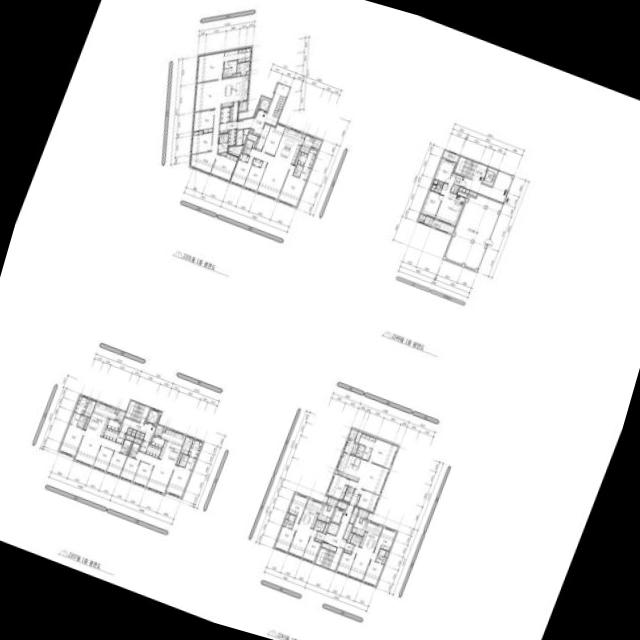background: (0, 0, 640, 640)
space_balconi: (423, 216, 454, 233), (442, 150, 459, 162), (311, 137, 321, 149), (238, 100, 247, 111)
space_bedroom: (277, 164, 306, 206), (367, 438, 397, 468), (165, 464, 191, 497), (58, 423, 84, 456), (209, 152, 238, 181), (196, 51, 223, 82), (261, 123, 284, 154), (243, 161, 266, 191), (230, 156, 253, 186), (326, 473, 349, 499), (287, 493, 307, 522), (373, 527, 395, 553), (421, 190, 442, 217), (92, 445, 113, 471), (105, 450, 126, 476), (274, 525, 295, 551), (362, 559, 383, 585), (132, 460, 153, 486), (190, 129, 212, 153), (434, 158, 455, 183), (119, 455, 139, 481), (356, 488, 378, 511), (192, 109, 213, 132), (302, 536, 320, 561), (336, 551, 355, 574), (238, 152, 249, 161), (252, 157, 262, 166)
space_dressroom: (73, 394, 88, 414), (187, 438, 202, 457), (358, 432, 375, 448), (303, 148, 316, 167), (237, 46, 251, 62), (297, 152, 307, 164)
space_elevator: (481, 166, 497, 185), (145, 408, 160, 425), (330, 507, 344, 523), (256, 96, 270, 111)
space_elevator_hall: (237, 82, 289, 135), (460, 162, 511, 201), (322, 504, 353, 554), (119, 417, 155, 441)
space_front: (254, 123, 270, 150), (145, 443, 161, 457), (102, 427, 118, 441), (219, 120, 236, 132), (227, 128, 236, 146), (220, 106, 229, 122), (451, 172, 462, 185), (349, 493, 359, 505), (314, 530, 324, 542), (115, 431, 125, 443), (138, 440, 148, 452), (343, 542, 353, 553)
space_kitchen: (350, 516, 382, 552), (273, 126, 303, 163), (85, 401, 116, 436), (298, 498, 334, 528), (158, 427, 185, 464), (220, 74, 249, 107), (336, 452, 365, 481), (447, 192, 464, 212), (106, 418, 120, 430), (150, 435, 164, 447)
space_living_room: (189, 79, 222, 173), (248, 147, 290, 199), (73, 430, 121, 466), (135, 450, 174, 493), (348, 460, 388, 495), (434, 175, 459, 225), (287, 522, 316, 556), (348, 545, 377, 579)
space_other: (444, 193, 502, 269), (300, 134, 314, 153), (83, 398, 96, 417), (180, 435, 192, 454), (343, 439, 358, 454), (236, 61, 250, 75), (229, 101, 238, 121), (342, 522, 352, 539), (348, 506, 358, 523), (430, 179, 443, 192), (246, 132, 257, 147), (320, 541, 336, 551), (326, 522, 338, 535), (228, 144, 242, 154), (242, 128, 249, 144), (236, 129, 242, 145), (450, 183, 459, 193), (336, 500, 347, 508), (294, 151, 300, 164), (354, 431, 361, 442), (417, 213, 425, 222), (83, 417, 89, 428), (322, 522, 328, 533), (456, 191, 466, 197), (346, 532, 352, 542), (176, 452, 181, 464), (125, 434, 133, 440), (468, 190, 476, 196), (133, 437, 141, 443), (134, 430, 140, 437), (130, 429, 136, 435), (138, 432, 144, 438), (126, 427, 131, 434), (459, 186, 465, 191), (253, 109, 257, 116), (219, 151, 226, 155), (231, 72, 240, 75), (285, 512, 289, 518), (384, 550, 388, 556), (248, 128, 253, 132), (301, 133, 305, 138), (464, 189, 469, 193), (162, 427, 166, 431), (358, 518, 362, 522), (245, 71, 249, 74), (327, 506, 330, 510), (335, 470, 338, 473)
space_outdoor_room: (347, 427, 358, 440), (356, 508, 368, 519), (325, 496, 337, 507), (153, 424, 163, 436), (115, 409, 125, 421)
space_staircase: (314, 547, 340, 570), (124, 400, 149, 422), (454, 156, 477, 178), (271, 94, 285, 117)
space_toilet: (354, 443, 371, 459), (222, 59, 236, 77), (282, 513, 295, 528), (119, 438, 131, 454), (223, 48, 237, 61), (241, 139, 253, 154), (342, 486, 354, 501), (128, 442, 139, 457), (184, 456, 196, 469), (349, 533, 362, 545), (69, 411, 80, 425), (375, 548, 385, 563), (313, 519, 325, 531), (299, 166, 309, 179), (217, 142, 227, 152), (294, 163, 303, 171), (180, 453, 188, 461), (78, 414, 86, 422), (178, 459, 186, 466), (76, 420, 84, 427), (292, 169, 300, 176), (218, 133, 223, 143), (223, 132, 227, 142)
